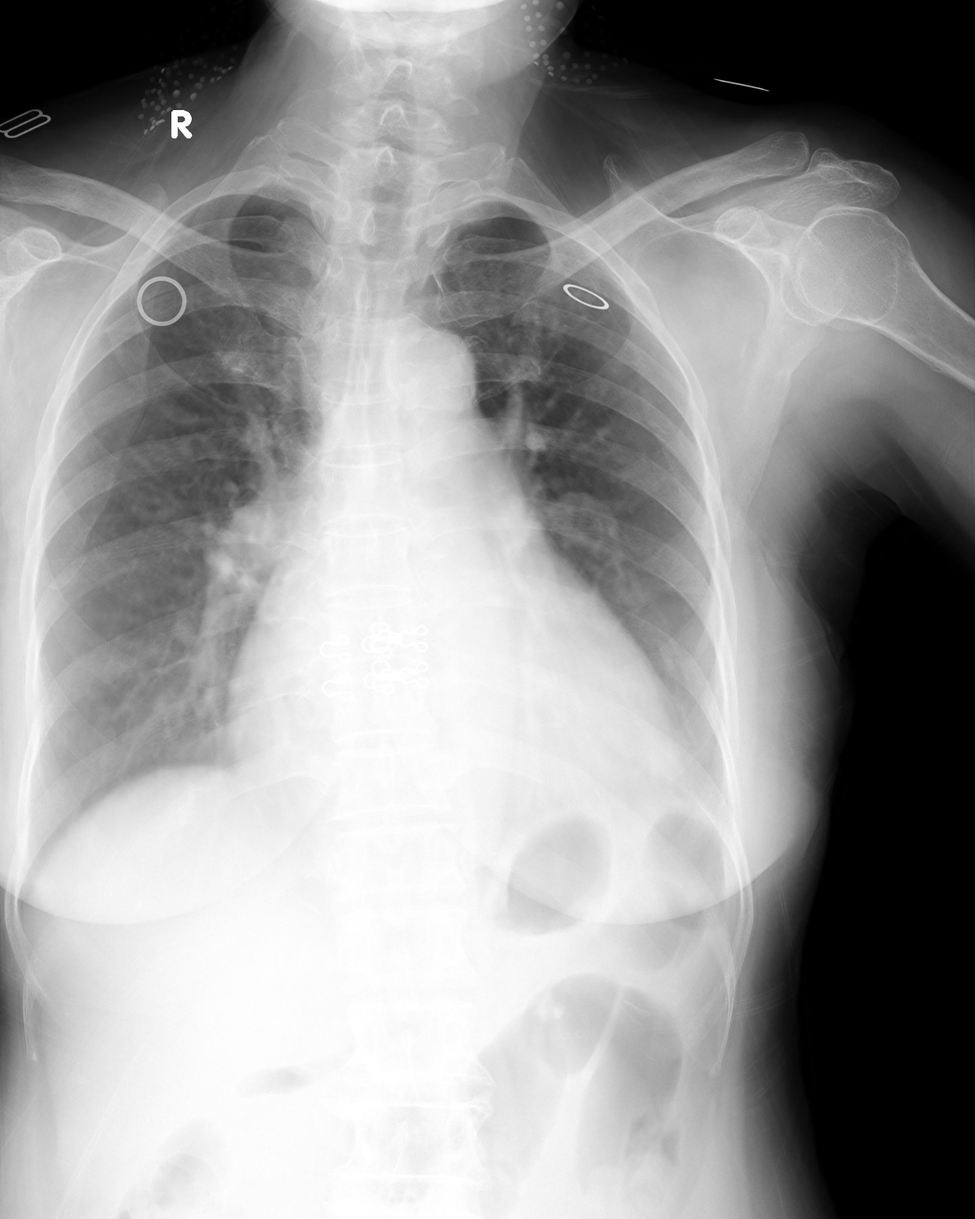Cardiomegaly: (217, 625, 694, 798)
